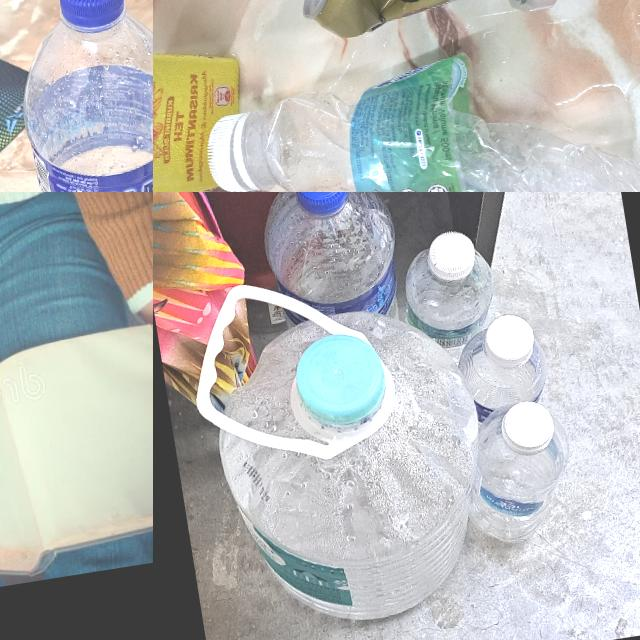caixinha: (153, 13, 261, 192)
garrafa plástica: (201, 293, 509, 640), (234, 15, 640, 192), (10, 1, 153, 192), (255, 192, 408, 337), (452, 396, 582, 550), (398, 240, 506, 372), (452, 320, 556, 430)
lata: (282, 0, 598, 45)
papel: (0, 300, 153, 606)
tampa plástica: (291, 328, 393, 430), (200, 110, 257, 192), (480, 310, 538, 371), (498, 398, 558, 456), (424, 228, 478, 284), (58, 0, 128, 32), (290, 192, 351, 217)
